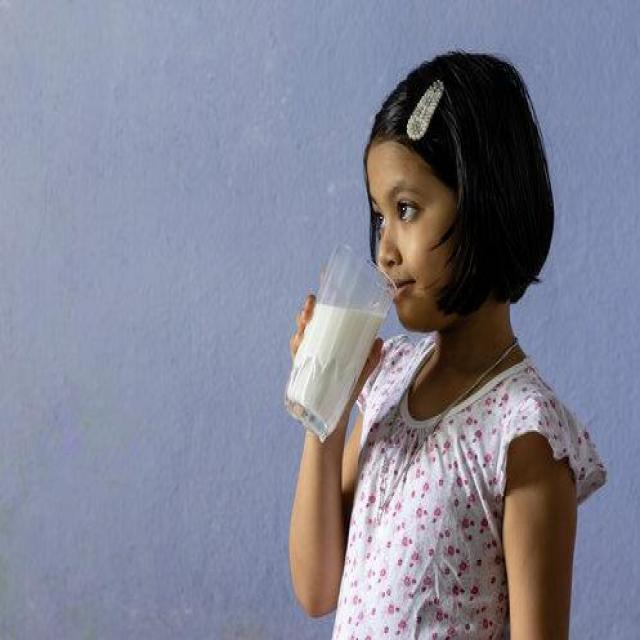child: (282, 46, 608, 640)
